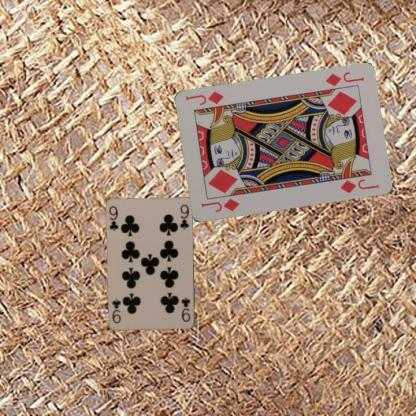9c: (106, 204, 120, 233), (179, 295, 191, 323)
Jd: (322, 69, 366, 88), (198, 196, 240, 214)
